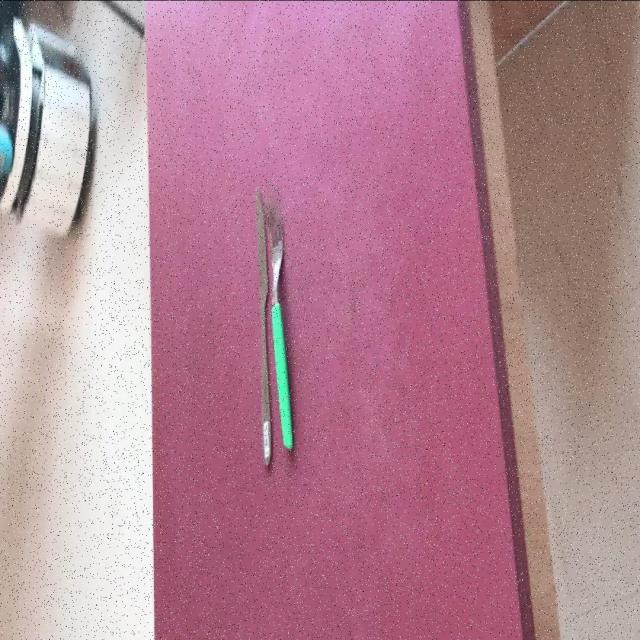Fork: (264, 206, 294, 449)
Knife: (254, 183, 272, 465)
